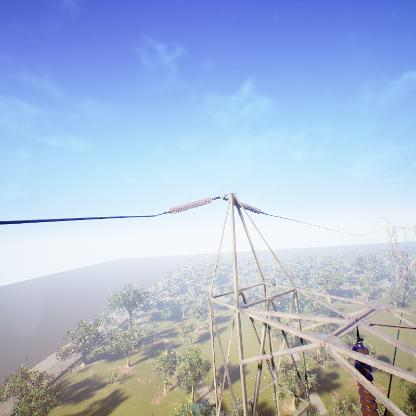insulator: (169, 196, 212, 216)
